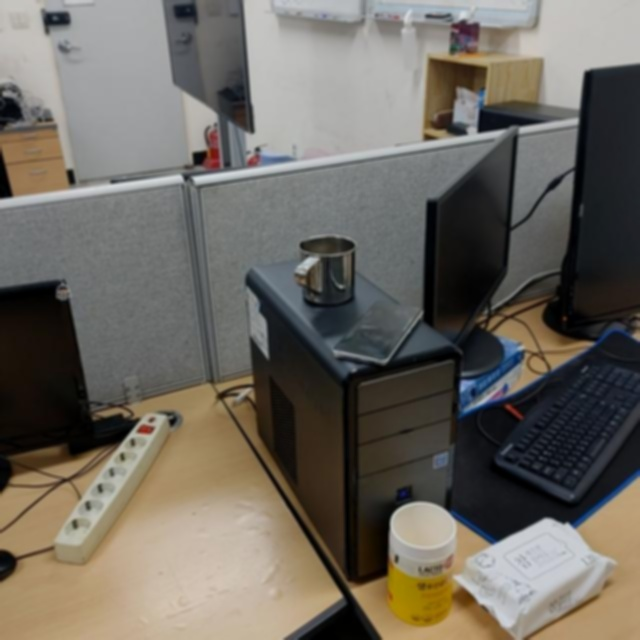cup: (293, 234, 356, 306)
phone: (331, 299, 425, 366)
